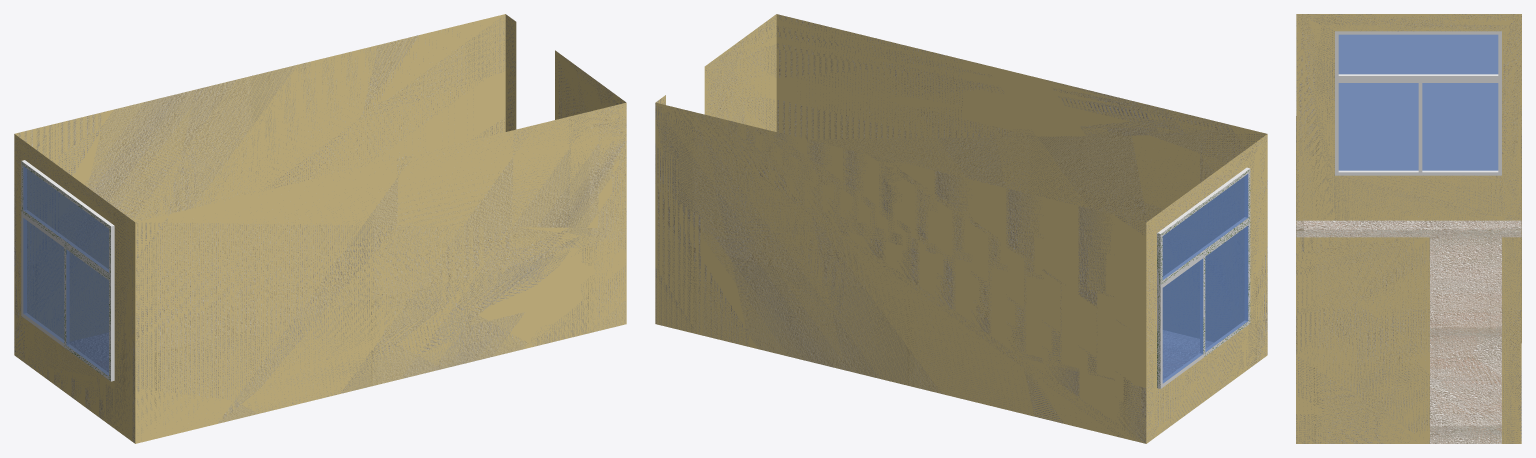
The model's file is DES039.obj.
3 renders of one model, left to right at view 1: azimuth 30°, elevation 25°; view 2: azimuth 150°, elevation 25°; view 3: azimuth 270°, elevation 25°, orthographic. The views are drawn at different scales.
Visible parts, largest first — view 1: Mesh7 DES039 Model, Mesh1 ventana1_1 DES039 Model; view 2: Mesh7 DES039 Model, Mesh1 ventana1_1 DES039 Model; view 3: Mesh7 DES039 Model, Mesh1 ventana1_1 DES039 Model.
Part boxes in pixels (bbox=[...]): Mesh7 DES039 Model: bbox=[14, 14, 626, 443]; Mesh1 ventana1_1 DES039 Model: bbox=[21, 160, 114, 381]; Mesh7 DES039 Model: bbox=[655, 14, 1267, 443]; Mesh1 ventana1_1 DES039 Model: bbox=[1157, 167, 1250, 388]; Mesh7 DES039 Model: bbox=[1296, 14, 1521, 443]; Mesh1 ventana1_1 DES039 Model: bbox=[1335, 31, 1501, 175].
Size of the model in its own units: 7.01 by 3 by 2.97.
6 materials, 2 textured.
